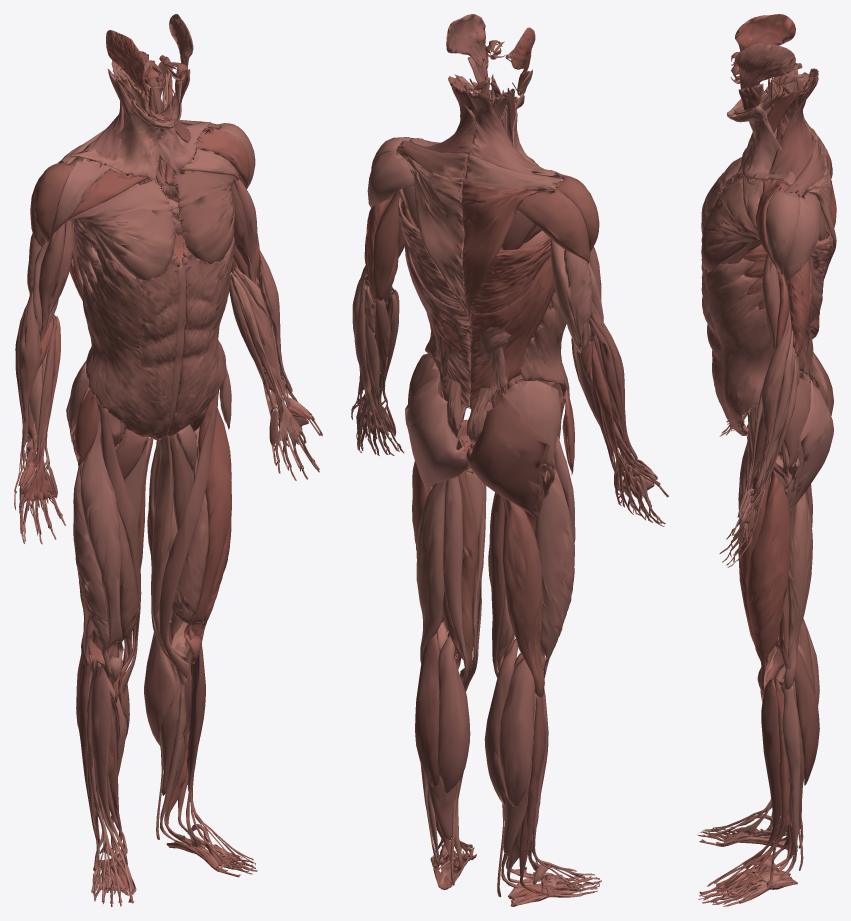
The model's file is muscles.glb.
3 views of the same model, side by side, from view 1: azimuth 30°, elevation 25°; view 2: azimuth 150°, elevation 25°; view 3: azimuth 270°, elevation 25° (orthographic). The views are drawn at different scales.
Parts seen in each view (by area): view 1: muscle-FJ1452, muscle-FJ1452M, muscle-FJ1464, muscle-FJ1433, muscle-FJ1464M, muscle-FJ1433M, muscle-FJ1434M, muscle-FJ1442, muscle-FJ1587, muscle-FJ1421M, muscle-FJ1434, muscle-FJ1439 (+42 smaller); view 2: muscle-FMA13358, muscle-FJ1418, muscle-FJ1395, muscle-FJ1442, muscle-FJ1520M, muscle-FJ1520, muscle-FMA13359, muscle-FJ1418M, muscle-FJ1394, muscle-FJ1397M, muscle-FJ1395M, muscle-FJ1436M (+41 smaller); view 3: muscle-FJ1452M, muscle-FJ1442M, muscle-FJ1395M, muscle-FJ1464M, muscle-FJ1418M, muscle-FJ1439M, muscle-FJ1558, muscle-FJ1467M, muscle-FJ1521M, muscle-FJ1394M, muscle-FMA49008, muscle-FJ1487M (+35 smaller).
Part boxes in pixels (box(x1,y1,x2,y2)): muscle-FJ1452: box(82, 248, 179, 439); muscle-FJ1452M: box(166, 236, 234, 436); muscle-FJ1464: box(67, 180, 176, 280); muscle-FJ1433: box(80, 410, 123, 682); muscle-FJ1464M: box(173, 171, 236, 263); muscle-FJ1433M: box(184, 398, 231, 663); muscle-FJ1434M: box(159, 390, 219, 685); muscle-FJ1442: box(73, 460, 113, 681); muscle-FJ1587: box(70, 100, 172, 177); muscle-FJ1421M: box(151, 436, 187, 661); muscle-FJ1434: box(96, 401, 141, 699); muscle-FJ1439: box(91, 662, 127, 865); muscle-FMA13358: box(469, 236, 554, 409); muscle-FJ1418: box(466, 392, 549, 517); muscle-FJ1395: box(502, 497, 544, 697); muscle-FJ1442: box(534, 465, 574, 677); muscle-FJ1520M: box(406, 156, 470, 320); muscle-FJ1520: box(462, 178, 546, 319); muscle-FMA13359: box(398, 198, 470, 407); muscle-FJ1418M: box(405, 377, 468, 492); muscle-FJ1394: box(499, 658, 535, 806); muscle-FJ1397M: box(437, 635, 470, 793); muscle-FJ1395M: box(416, 480, 446, 663); muscle-FJ1436M: box(443, 476, 468, 685); muscle-FJ1452M: box(701, 258, 773, 436); muscle-FJ1442M: box(747, 469, 790, 692); muscle-FJ1395M: box(783, 490, 812, 689); muscle-FJ1464M: box(701, 177, 759, 271); muscle-FJ1418M: box(786, 379, 833, 511); muscle-FJ1439M: box(743, 679, 781, 868); muscle-FJ1558: box(727, 105, 795, 184); muscle-FJ1467M: box(766, 190, 800, 274); muscle-FJ1521M: box(769, 77, 818, 179); muscle-FJ1394M: box(778, 643, 819, 785); muscle-FMA49008: box(734, 43, 795, 88); muscle-FJ1487M: box(755, 306, 791, 489).
Bounding box in the file's own units: 9.39 × 24.53 × 3.69.
